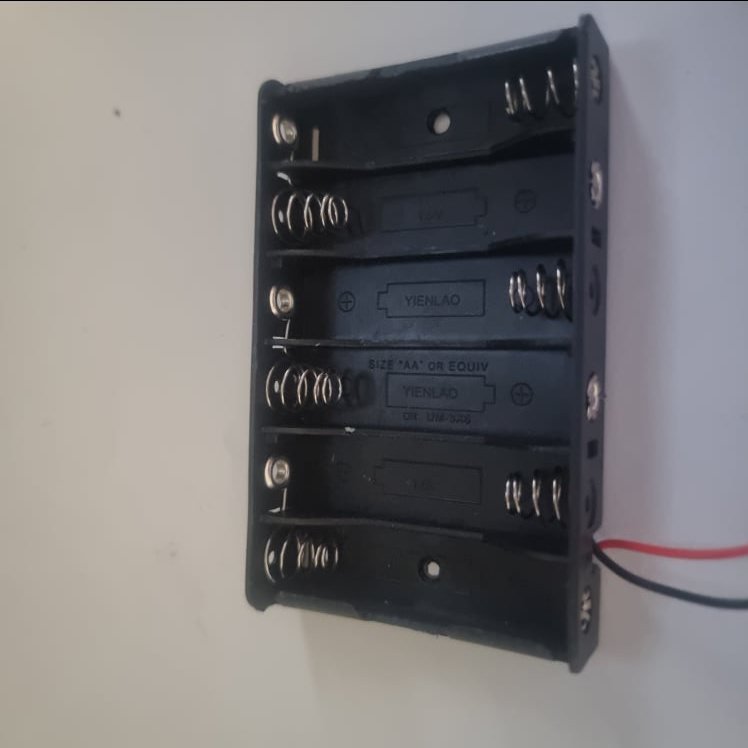BATTERY BOX: (245, 14, 615, 677)
